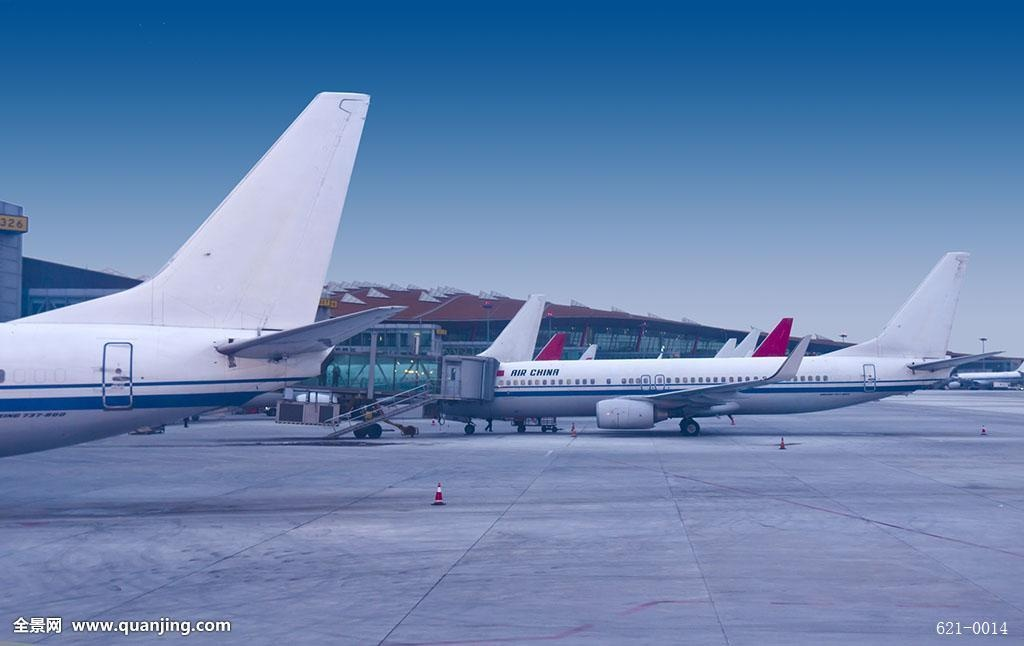airplane: (411, 244, 992, 438)
